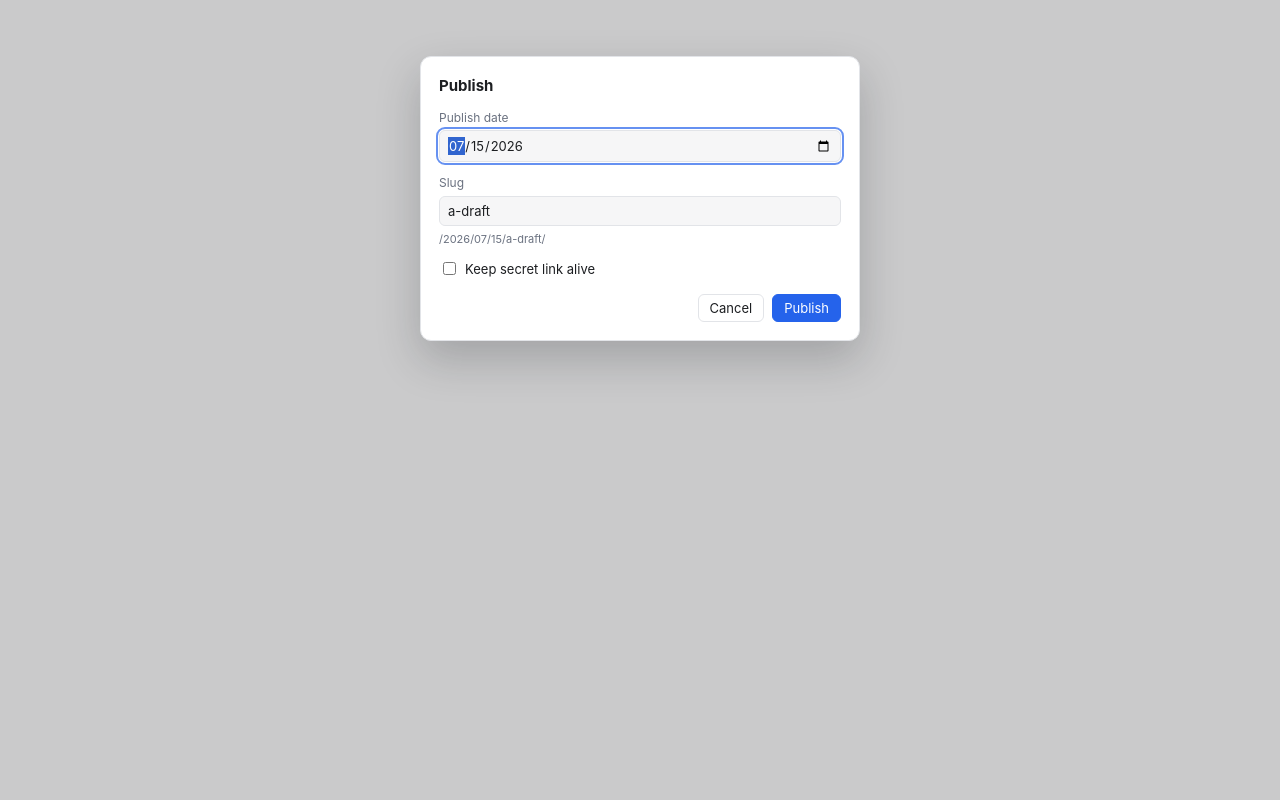
PublishDialog — live URL preview › keeps the invalid-slug hint over the /private/ preview so the disabled Publish stays explained
Click the checkbox labelled "Keep secret link alive" at (450, 269), box x1=443 y1=262 x2=456 y2=276
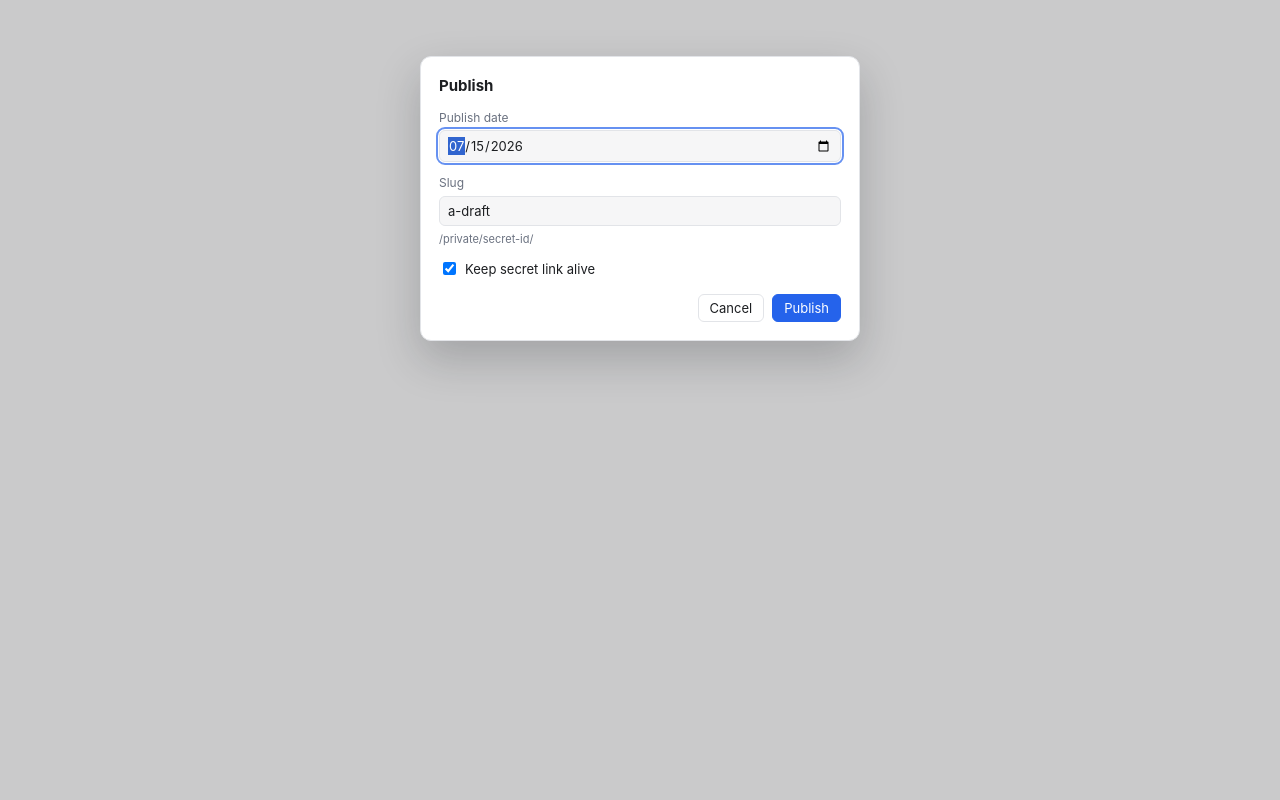
Replace the text in the field labelled "Slug" with "not valid" at (640, 210), box x1=439 y1=196 x2=841 y2=226
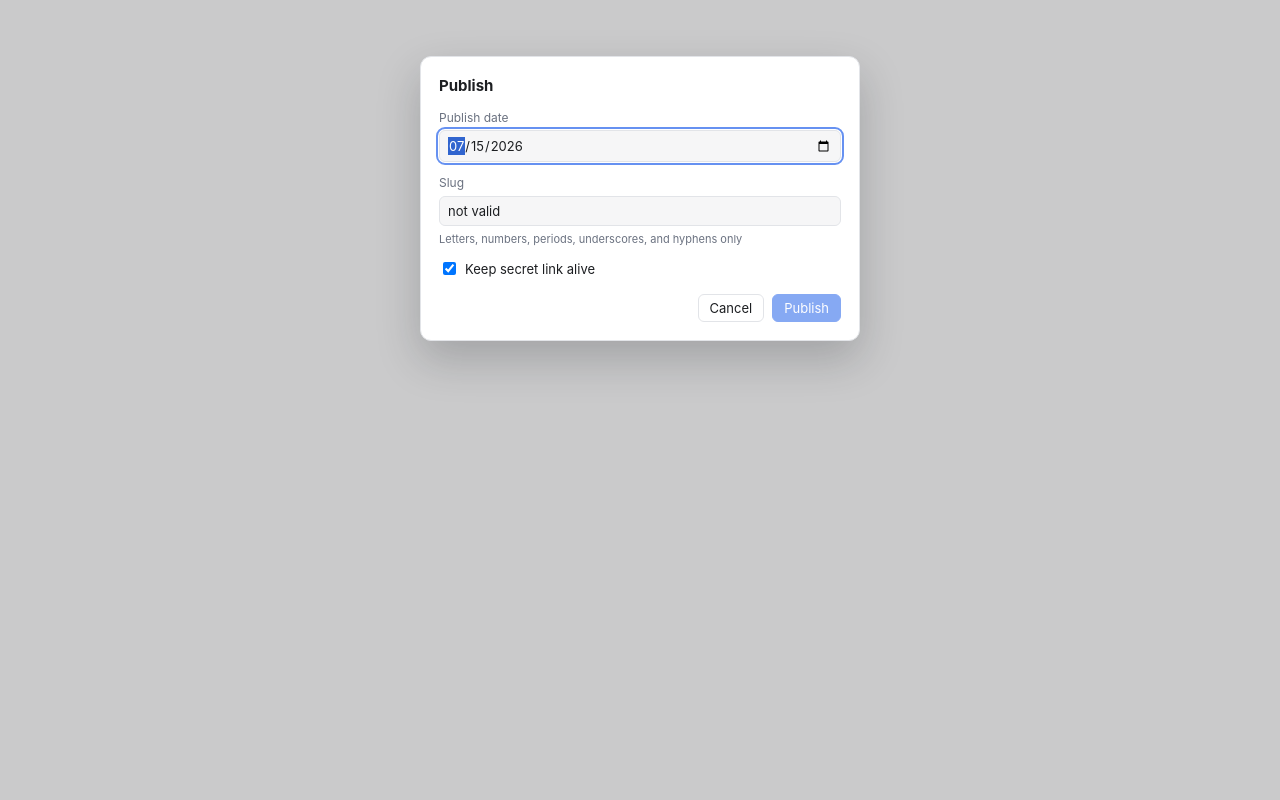
expect the text "/private/secret-id/" is gone: met
